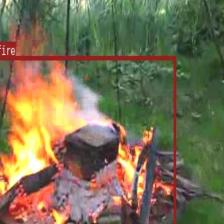fire: (0, 55, 175, 224)
